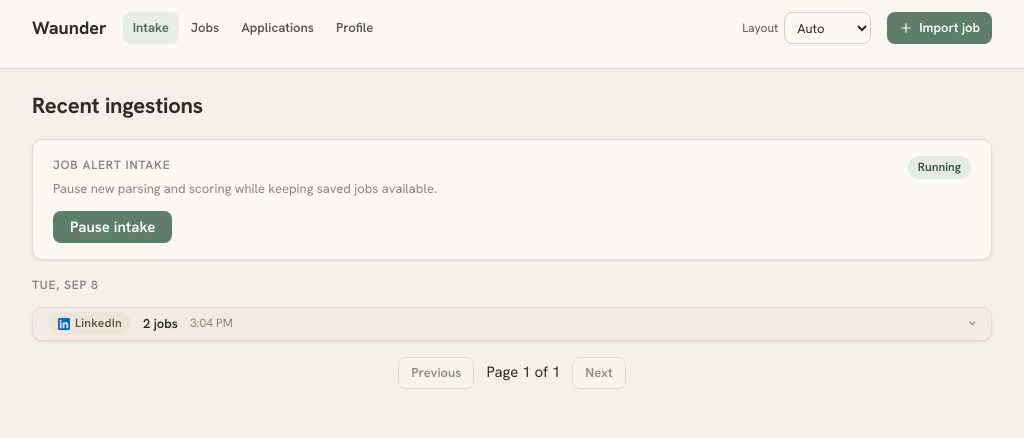
Test case: intake control › pauses intake and promises the alerts are held
Check: the element with class "digest-content" is shown, box x1=32 y1=139 x2=992 y2=389
Click the button "Pause intake". click: (113, 227)
box: x1=53 y1=211 x2=172 y2=243
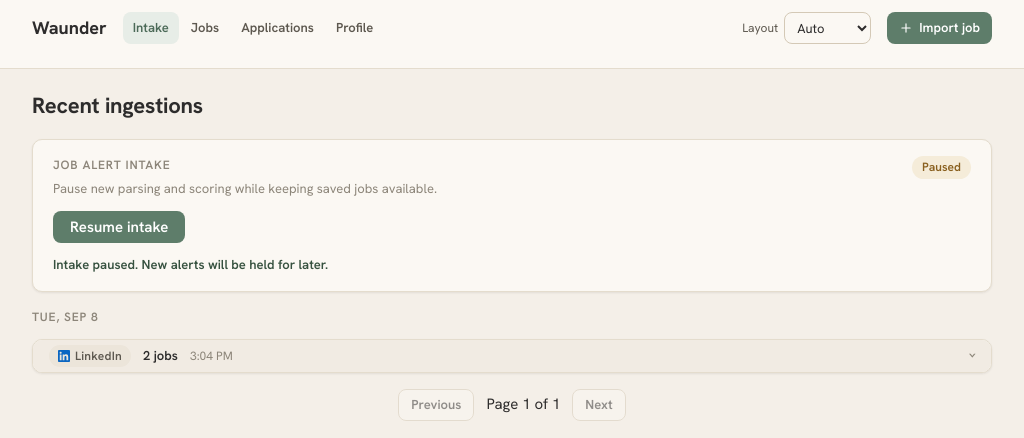
Check: the text with class "intake-message" reads "Intake paused. New alerts will be held for later.", box x1=53 y1=256 x2=328 y2=273
Check: the text "Paused" is shown, box x1=912 y1=156 x2=971 y2=179
